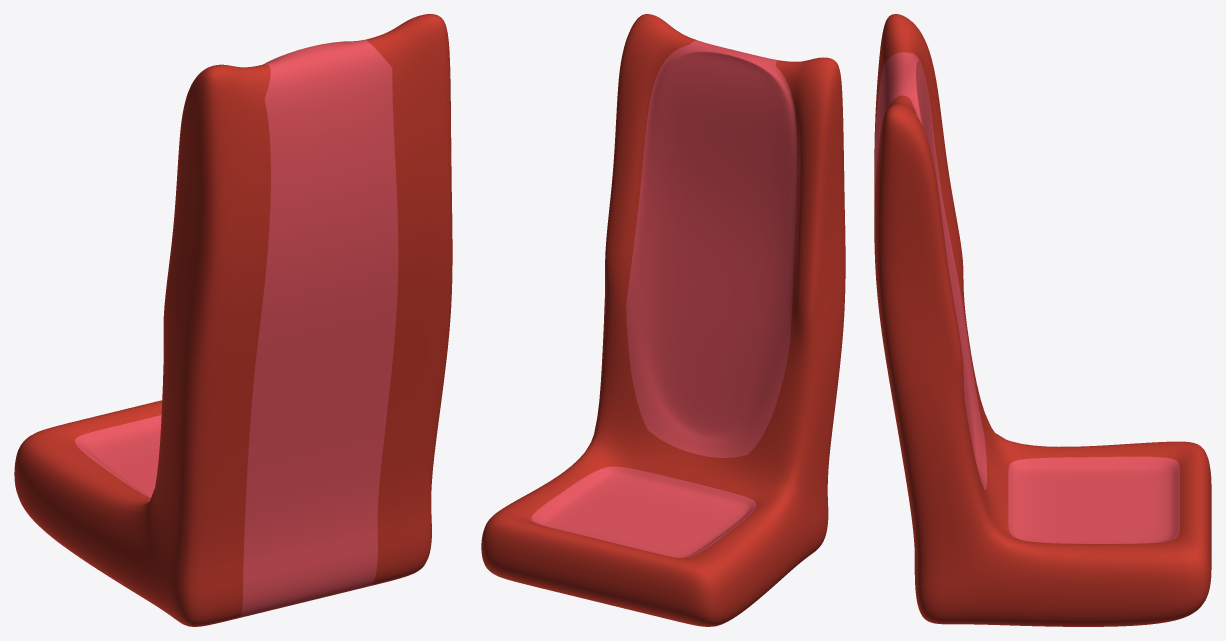
Rendered from Seat.fbx.
The picture shows the model from 3 angles, left to right: view 1: azimuth 30°, elevation 25°; view 2: azimuth 150°, elevation 25°; view 3: azimuth 270°, elevation 25°; orthographic projection. The views are drawn at different scales.
Parts seen in each view (by area): view 1: Seat; view 2: Seat; view 3: Seat.
Boxes of the visible parts, x1,y1,x2,y2 form: Seat: (14,14,452,626); Seat: (481,14,845,626); Seat: (874,14,1211,626).
Size of the model in its own units: 92.82 by 178 by 105.
